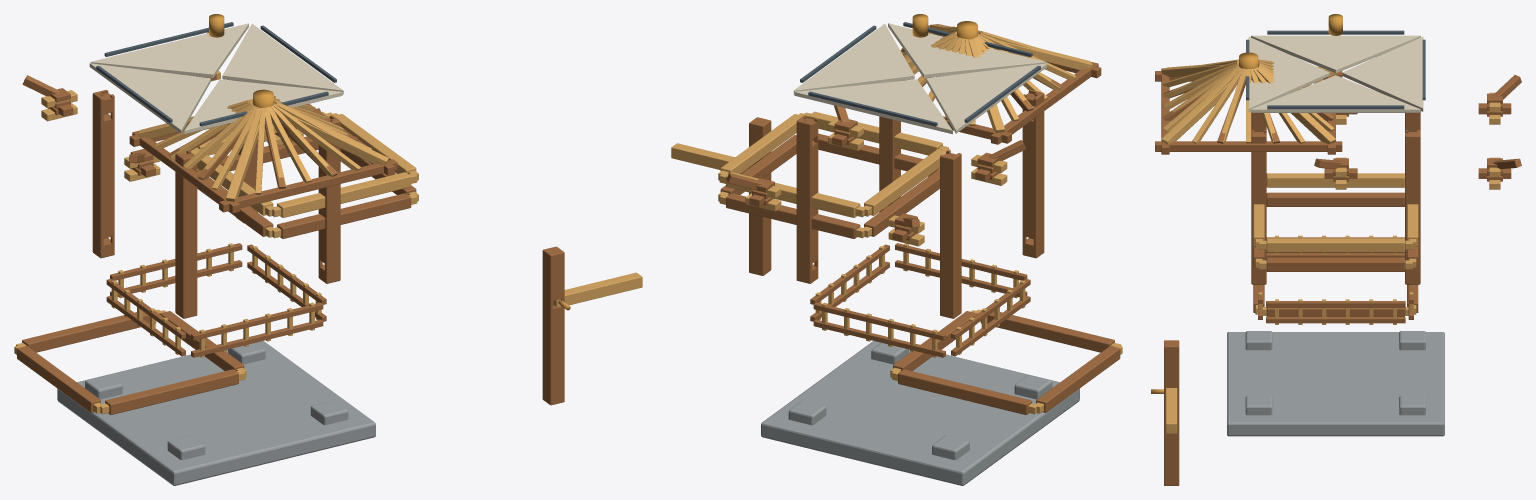
Rendered from real-assembly-pavilion.glb.
3 views of the same model, side by side, from view 1: azimuth 30°, elevation 25°; view 2: azimuth 150°, elevation 25°; view 3: azimuth 270°, elevation 25° (orthographic). The views are drawn at different scales.
Parts seen in each view (by area): view 1: foundation_plinth, PAV_ROOF_PANEL_3, PAV_ROOF_PANEL_2, post_04, PAV_ROOF_PANEL_4, demo_post, post_01, PAV_ROOF_PANEL_1, post_02, SILL_x_-1_body, EAVE_x_-1_body, TIE_x_-1_body (+23 smaller); view 2: foundation_plinth, PAV_ROOF_PANEL_2, post_04, PAV_ROOF_PANEL_3, post_03, PAV_ROOF_PANEL_4, post_01, PAV_ROOF_PANEL_1, SILL_x_+1_body, demo_post, SILL_x_-1_body, TIE_x_+1_body (+27 smaller); view 3: foundation_plinth, PAV_ROOF_PANEL_4, PAV_ROOF_PANEL_3, PAV_ROOF_PANEL_2, PAV_ROOF_PANEL_1, TIE_y_+1_body, TIE_y_-1_body, EAVE_y_+1_body, demo_post, PAV_EAVE_RAIL_purlin_04, EAVE_y_-1_body, post_03 (+24 smaller).
Part boxes in pixels (x1=…): foundation_plinth: x1=57, y1=341, x2=375, y2=485; PAV_ROOF_PANEL_3: x1=90, y1=23, x2=248, y2=77; PAV_ROOF_PANEL_2: x1=222, y1=24, x2=343, y2=94; post_04: x1=92, y1=90, x2=114, y2=258; PAV_ROOF_PANEL_4: x1=89, y1=63, x2=210, y2=133; demo_post: x1=542, y1=246, x2=564, y2=405; post_01: x1=175, y1=150, x2=197, y2=318; PAV_ROOF_PANEL_1: x1=184, y1=79, x2=342, y2=134; post_02: x1=318, y1=115, x2=340, y2=283; SILL_x_-1_body: x1=105, y1=369, x2=238, y2=414; EAVE_x_-1_body: x1=277, y1=172, x2=411, y2=217; TIE_x_-1_body: x1=277, y1=193, x2=411, y2=238; foundation_plinth: x1=761, y1=341, x2=1079, y2=485; PAV_ROOF_PANEL_2: x1=793, y1=24, x2=914, y2=93; post_04: x1=940, y1=150, x2=961, y2=318; PAV_ROOF_PANEL_3: x1=794, y1=79, x2=952, y2=134; post_03: x1=796, y1=115, x2=818, y2=283; PAV_ROOF_PANEL_4: x1=926, y1=63, x2=1047, y2=133; post_01: x1=1022, y1=90, x2=1044, y2=258; PAV_ROOF_PANEL_1: x1=888, y1=23, x2=1046, y2=78; SILL_x_+1_body: x1=898, y1=369, x2=1032, y2=414; demo_post: x1=749, y1=117, x2=771, y2=275; SILL_x_-1_body: x1=980, y1=311, x2=1114, y2=352; TIE_x_+1_body: x1=726, y1=193, x2=860, y2=238; foundation_plinth: x1=1227, y1=332, x2=1444, y2=436; PAV_ROOF_PANEL_4: x1=1251, y1=35, x2=1420, y2=73; PAV_ROOF_PANEL_3: x1=1342, y1=37, x2=1423, y2=111; PAV_ROOF_PANEL_2: x1=1251, y1=75, x2=1420, y2=112; PAV_ROOF_PANEL_1: x1=1248, y1=37, x2=1329, y2=111; TIE_y_+1_body: x1=1266, y1=257, x2=1404, y2=271; TIE_y_-1_body: x1=1266, y1=192, x2=1404, y2=206; EAVE_y_+1_body: x1=1266, y1=238, x2=1404, y2=252; demo_post: x1=1164, y1=340, x2=1179, y2=485; PAV_EAVE_RAIL_purlin_04: x1=1155, y1=141, x2=1342, y2=151; EAVE_y_-1_body: x1=1266, y1=173, x2=1404, y2=187; post_03: x1=1405, y1=130, x2=1420, y2=284.
Size of the model in its own units: 10.41 by 8.04 by 7.22.
